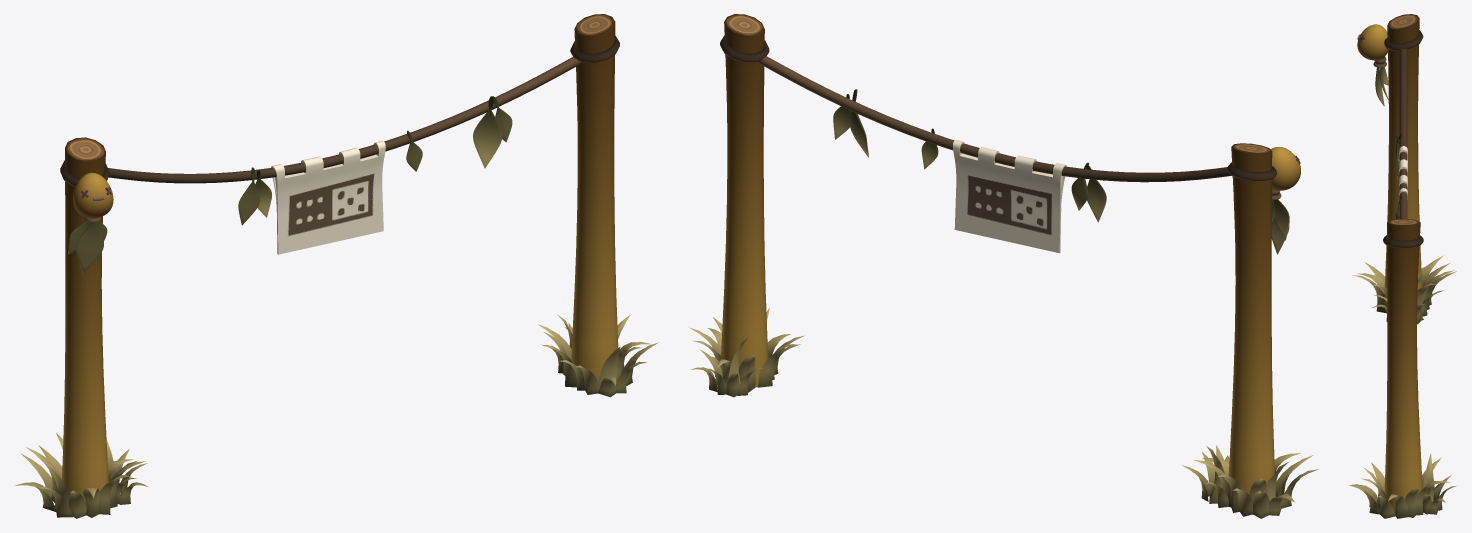
File: GATE.fbx
3 views of the same model, side by side, from view 1: azimuth 30°, elevation 25°; view 2: azimuth 150°, elevation 25°; view 3: azimuth 270°, elevation 25° (orthographic). The views are drawn at different scales.
Parts seen in each view (by area): view 1: GATE; view 2: GATE; view 3: GATE.
Part boxes in pixels (x1,y1,x2,y2): GATE: [15, 14, 658, 518]; GATE: [689, 14, 1318, 518]; GATE: [1349, 14, 1456, 518].
Size of the model in its own units: 1.81 by 1.01 by 0.3455.
